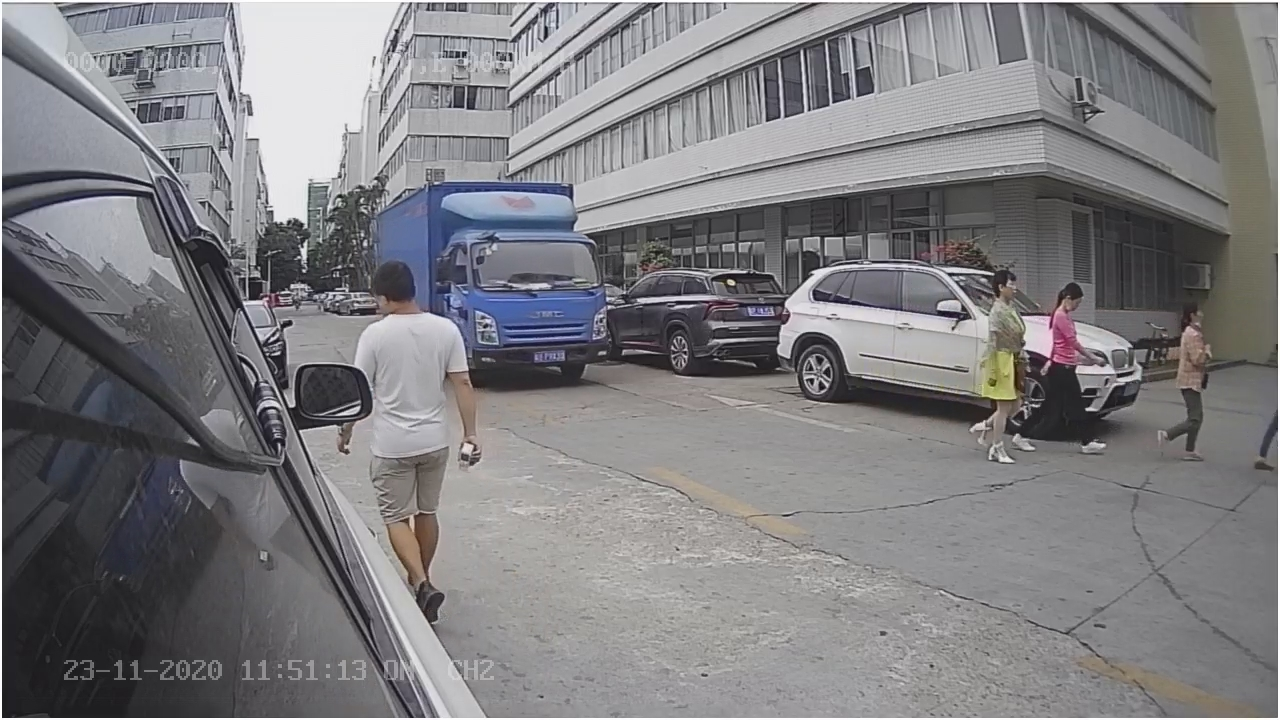person: (955, 259, 1037, 463), (350, 259, 463, 373), (1147, 295, 1219, 464)
